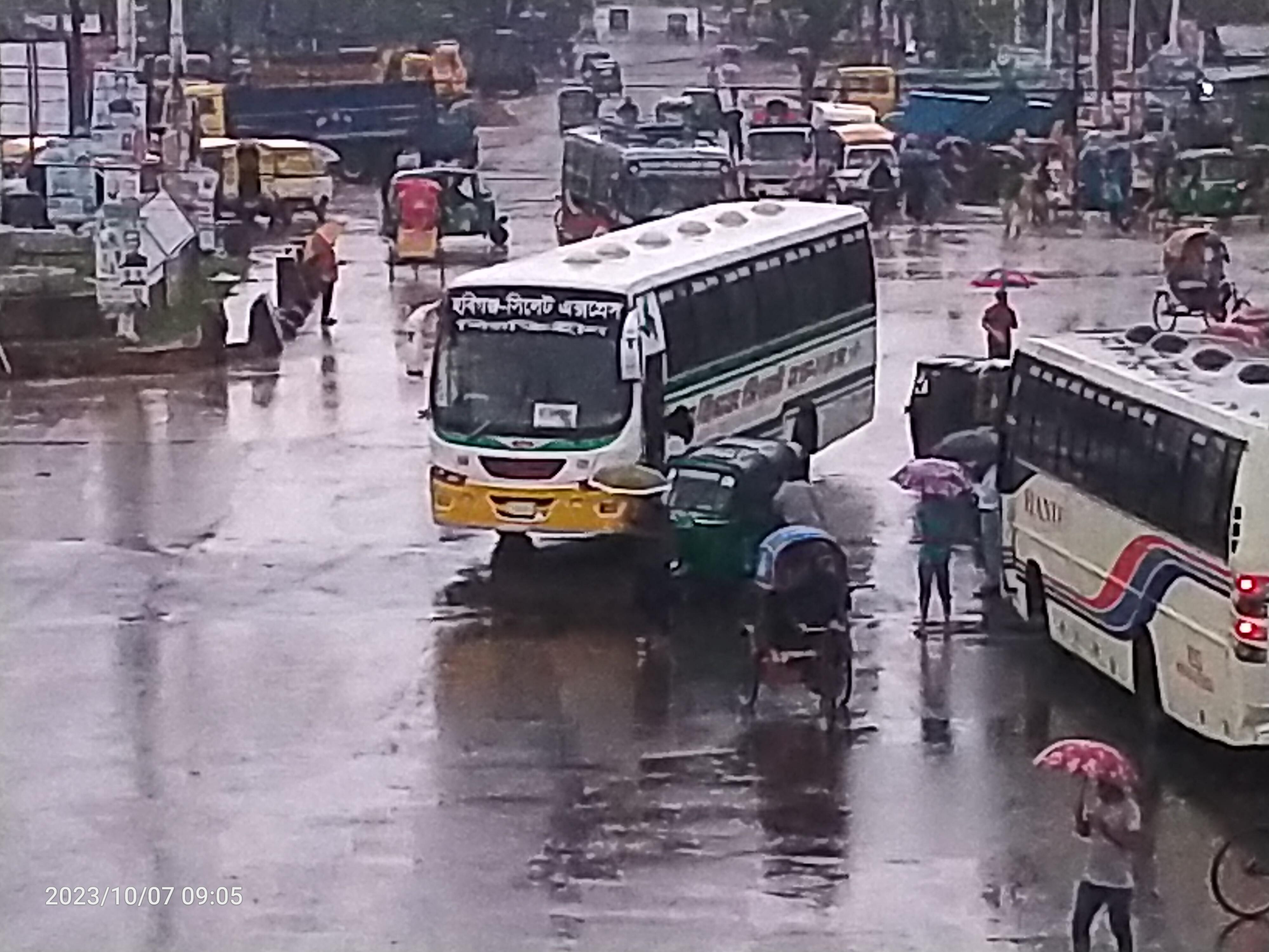Bus: (415, 178, 908, 578), (983, 299, 1269, 763), (539, 101, 757, 252)
Car: (720, 513, 888, 745), (160, 62, 437, 163), (190, 130, 349, 231), (826, 56, 1051, 118), (1150, 205, 1251, 338), (388, 149, 449, 294)
